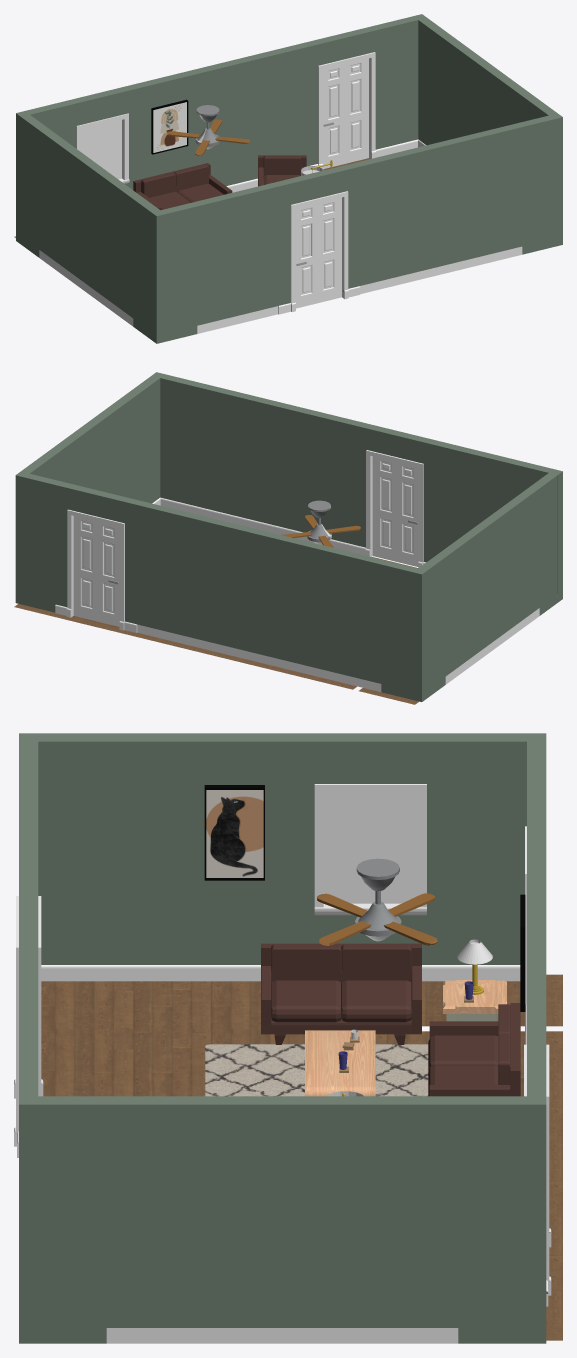
The model's file is CritterJam_LivingRoom1.glb.
3 views of the same model, one above another, from view 1: azimuth 30°, elevation 25°; view 2: azimuth 150°, elevation 25°; view 3: azimuth 270°, elevation 25° (orthographic). The views are drawn at different scales.
Parts seen in each view (by area): view 1: SolidWall.007, SolidWall.004, SolidWall.006, SolidWall.003, WallCorner.003, WallCorner.004, SolidWall.001, Window.001, DoorWall.002, DoorWall.001, Window.002, WallCorner.002 (+14 smaller); view 2: SolidWall.003, SolidWall.002, Window.002, SolidWall.007, SolidWall.006, WallCorner.001, WallCorner.002, Window.001, SolidWall.001, DoorWall.001, SolidWall.004, DoorWall.002 (+9 smaller); view 3: SolidWall.005, SolidWall.008, SolidWall.001, Window.001, WallCorner.004, WallCorner.002, WallCorner.003, WallCorner.001, WoodFloor.002, Rug, WoodFloor.001, CatPainting (+28 smaller).
Boxes of the visible parts, left/top/right/bottom form: SolidWall.007: left=436, top=123, right=522, bottom=274; SolidWall.004: left=192, top=183, right=278, bottom=333; SolidWall.006: left=355, top=143, right=440, bottom=293; SolidWall.003: left=219, top=43, right=305, bottom=192; WallCorner.003: left=133, top=197, right=197, bottom=343; WallCorner.004: left=382, top=14, right=445, bottom=154; SolidWall.001: left=86, top=162, right=141, bottom=326; Window.001: left=39, top=128, right=94, bottom=291; DoorWall.002: left=274, top=163, right=360, bottom=314; DoorWall.001: left=301, top=24, right=386, bottom=170; Window.002: left=57, top=83, right=142, bottom=189; WallCorner.002: left=517, top=100, right=562, bottom=254; SolidWall.003: left=137, top=501, right=223, bottom=652; SolidWall.002: left=218, top=521, right=304, bottom=672; Window.002: left=300, top=541, right=385, bottom=691; SolidWall.007: left=191, top=382, right=277, bottom=532; SolidWall.006: left=273, top=402, right=359, bottom=552; WallCorner.001: left=381, top=555, right=445, bottom=701; WallCorner.002: left=133, top=372, right=196, bottom=512; Window.001: left=437, top=520, right=492, bottom=684; SolidWall.001: left=484, top=486, right=539, bottom=649; DoorWall.001: left=55, top=481, right=141, bottom=632; SolidWall.004: left=436, top=441, right=521, bottom=555; DoorWall.002: left=354, top=422, right=440, bottom=567; SolidWall.005: left=282, top=1096, right=458, bottom=1343; SolidWall.008: left=106, top=1096, right=282, bottom=1343; SolidWall.001: left=106, top=733, right=282, bottom=981; Window.001: left=282, top=733, right=458, bottom=981; WallCorner.004: left=458, top=1067, right=546, bottom=1343; WallCorner.002: left=19, top=1067, right=106, bottom=1343; WallCorner.003: left=19, top=733, right=106, bottom=981; WallCorner.001: left=458, top=733, right=546, bottom=981; WoodFloor.002: left=41, top=1026, right=211, bottom=1096; Rug: left=205, top=1044, right=428, bottom=1096; WoodFloor.001: left=41, top=981, right=211, bottom=1026; CatPainting: left=204, top=785, right=264, bottom=880.
Size of the model in its own units: 9.99 by 3.01 by 6.25.
Materials: 23 (5 with a texture image).
